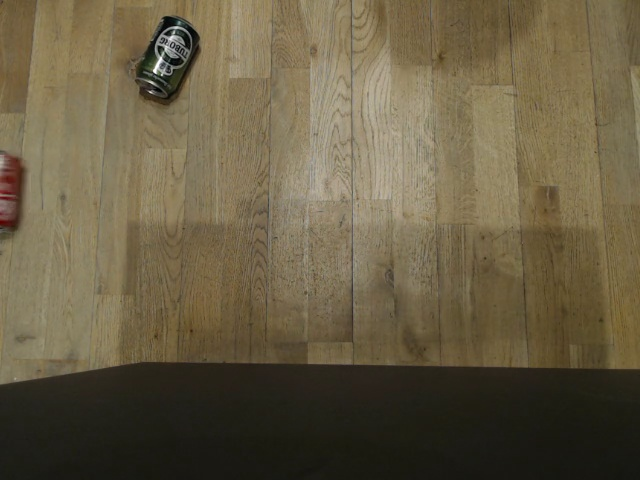beer: (131, 11, 204, 102)
cola: (0, 143, 28, 230)
